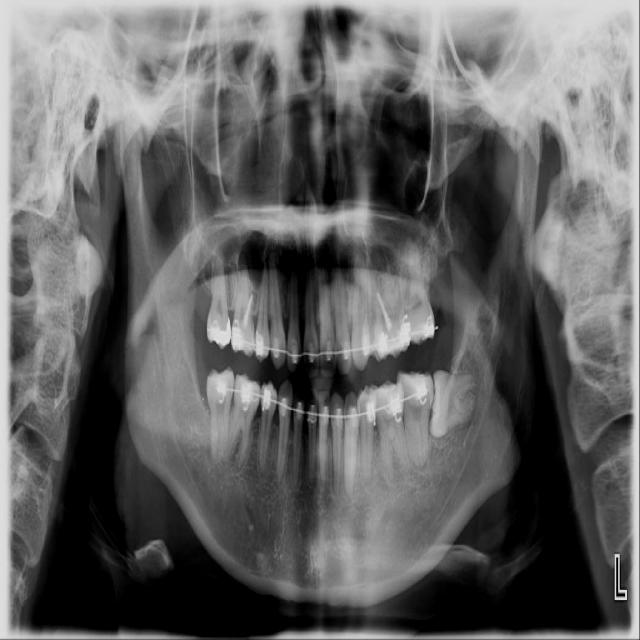Filling: (207, 319, 230, 345)
impacted tooth: (433, 371, 479, 438)
